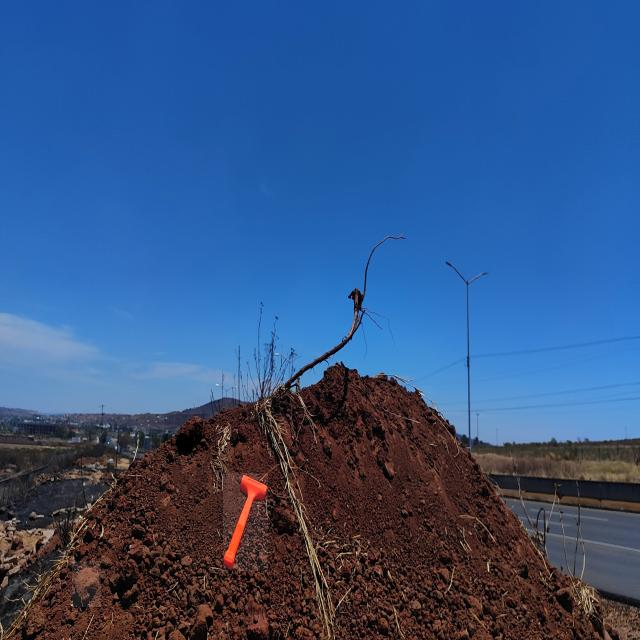Orange_hammer: (223, 473, 268, 571)
rock: (164, 414, 210, 452), (72, 561, 101, 607)
